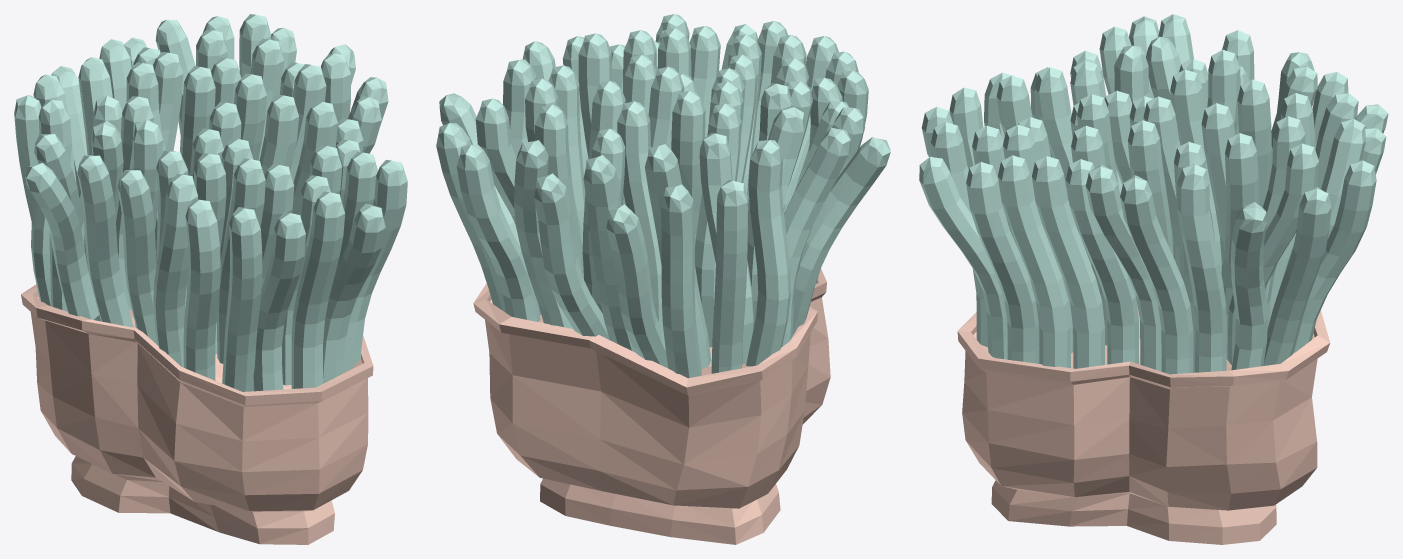
File: anemone_pastel.glb
3 renders of one model, left to right at view 1: azimuth 30°, elevation 25°; view 2: azimuth 150°, elevation 25°; view 3: azimuth 270°, elevation 25°, orthographic. The views are drawn at different scales.
Visible parts, largest first — view 1: Node; view 2: Node; view 3: Node.
Boxes of the visible parts, x1,y1,x2,y2 form: Node: (14, 14, 407, 544); Node: (436, 14, 890, 544); Node: (919, 14, 1388, 544).
Bounding box in the file's own units: 7.35 × 7.62 × 7.59.
